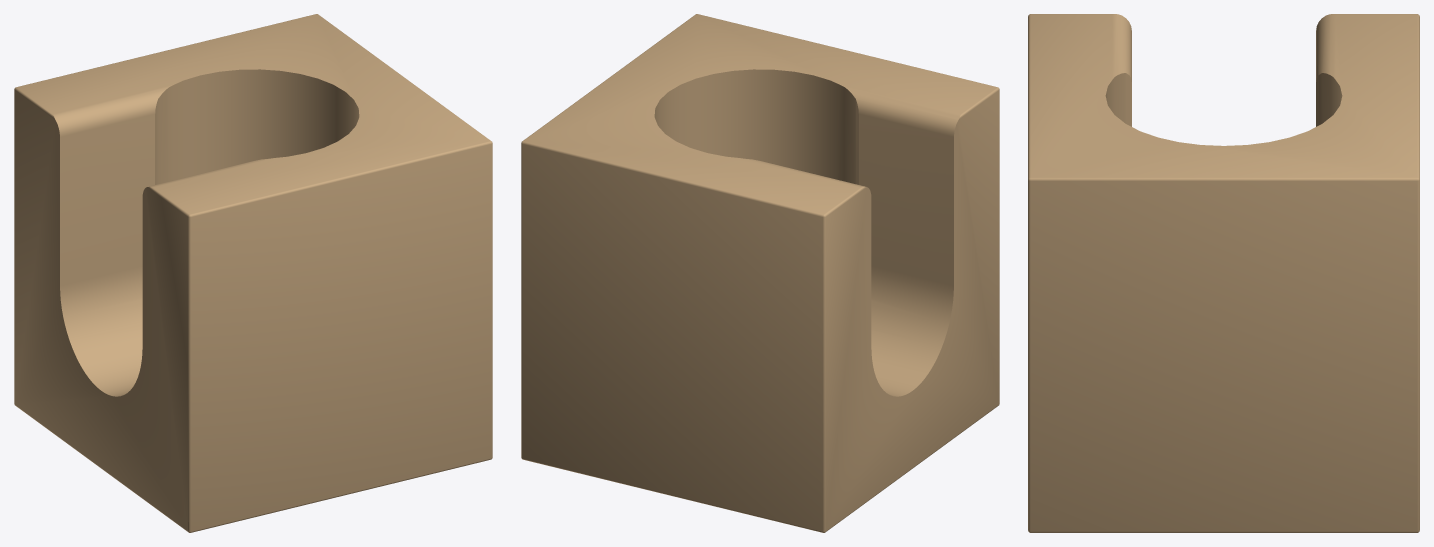
Rendered from blk_drop_l1.glb.
3 views of the same model, side by side, from view 1: azimuth 30°, elevation 25°; view 2: azimuth 150°, elevation 25°; view 3: azimuth 270°, elevation 25° (orthographic). The views are drawn at different scales.
Parts seen in each view (by area): view 1: blk_drop_l1_lod0; view 2: blk_drop_l1_lod0; view 3: blk_drop_l1_lod0.
Boxes of the visible parts, left/top/right/bottom form: blk_drop_l1_lod0: left=14, top=14, right=492, bottom=532; blk_drop_l1_lod0: left=521, top=14, right=999, bottom=532; blk_drop_l1_lod0: left=1028, top=14, right=1419, bottom=532.
Size of what is drawn, in the model's own units: 0.0596 by 0.0596 by 0.0596.
